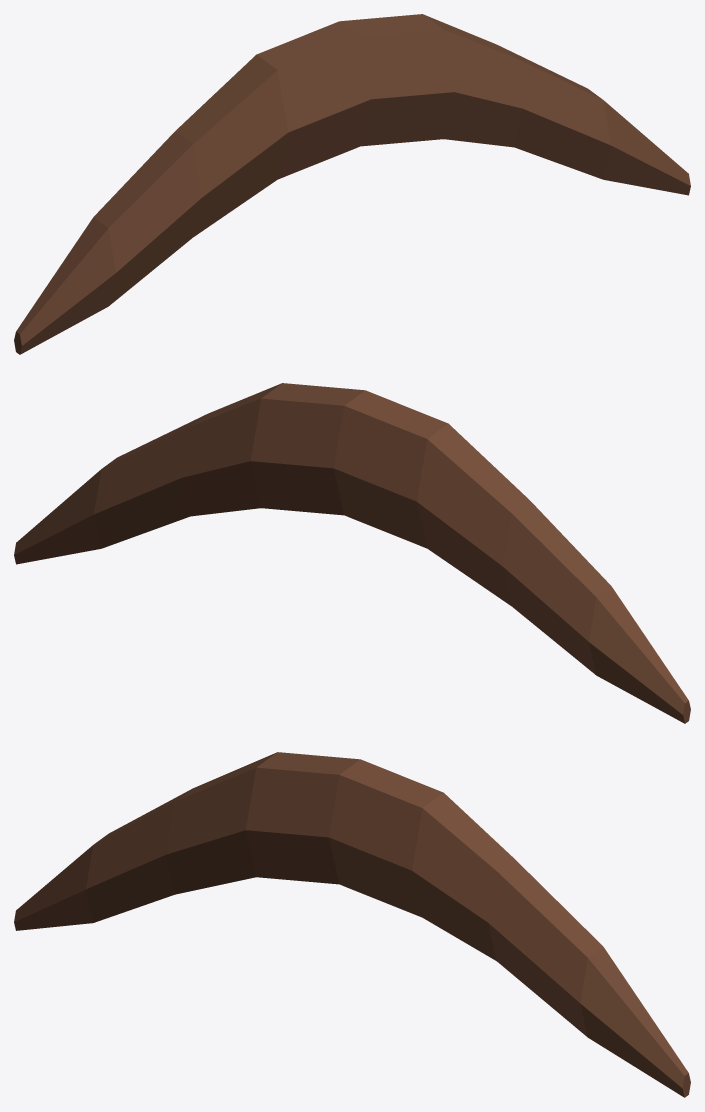
File: Boomerang.fbx
3 renders of one model, top to bottom at view 1: azimuth 30°, elevation 25°; view 2: azimuth 150°, elevation 25°; view 3: azimuth 330°, elevation 25°, orthographic.
Parts seen in each view (by area): view 1: Cylinder; view 2: Cylinder; view 3: Cylinder.
Part boxes in pixels (left/top/right/bottom): Cylinder: left=14, top=14, right=690, bottom=354; Cylinder: left=14, top=383, right=690, bottom=723; Cylinder: left=14, top=752, right=690, bottom=1097.
Bounding box in the file's own units: 453 × 160 × 49.76.
